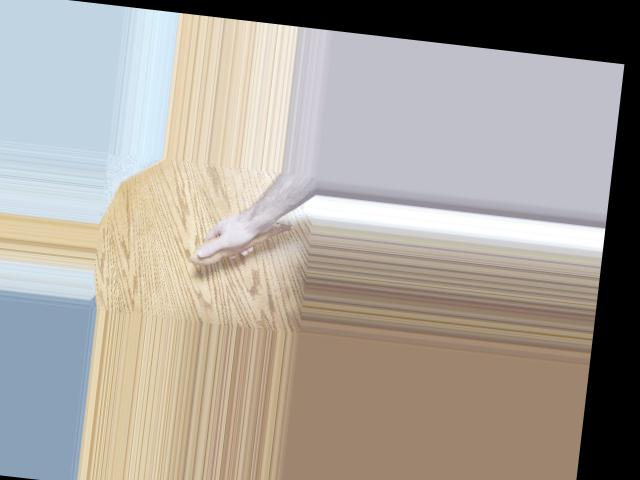sweet_potato: (193, 208, 295, 273)
